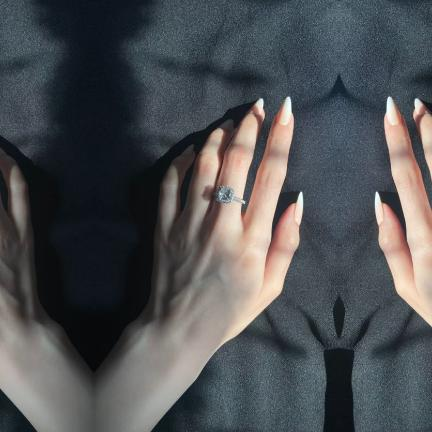Nail: (276, 96, 291, 125), (386, 96, 401, 125), (293, 191, 302, 225), (374, 191, 383, 225), (251, 98, 263, 114), (414, 98, 425, 114)
